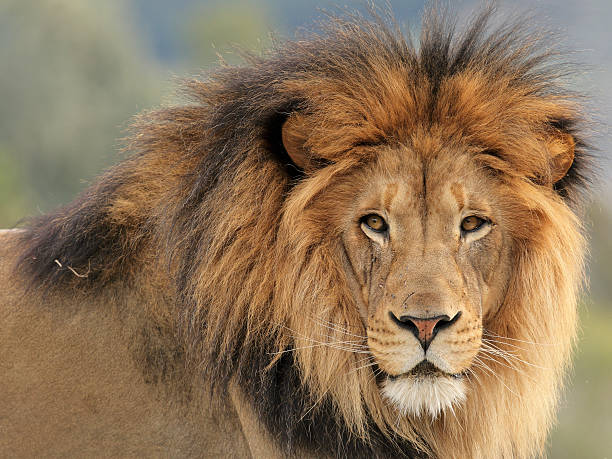lion: (33, 11, 612, 455)
